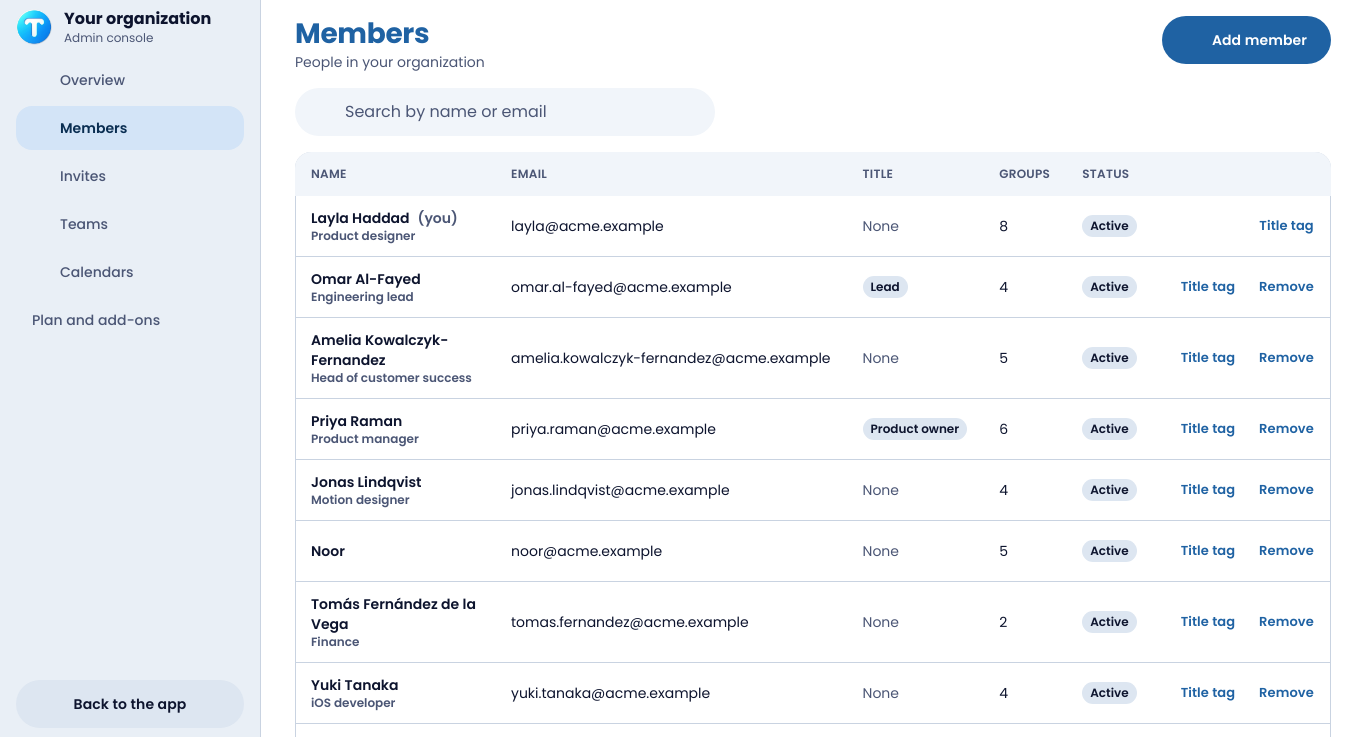
it: admin console › lists members in a table and adds one
This screenshot has width=1366, height=737.
Click the button "Add member": (1246, 40) [1162, 16, 1331, 64]
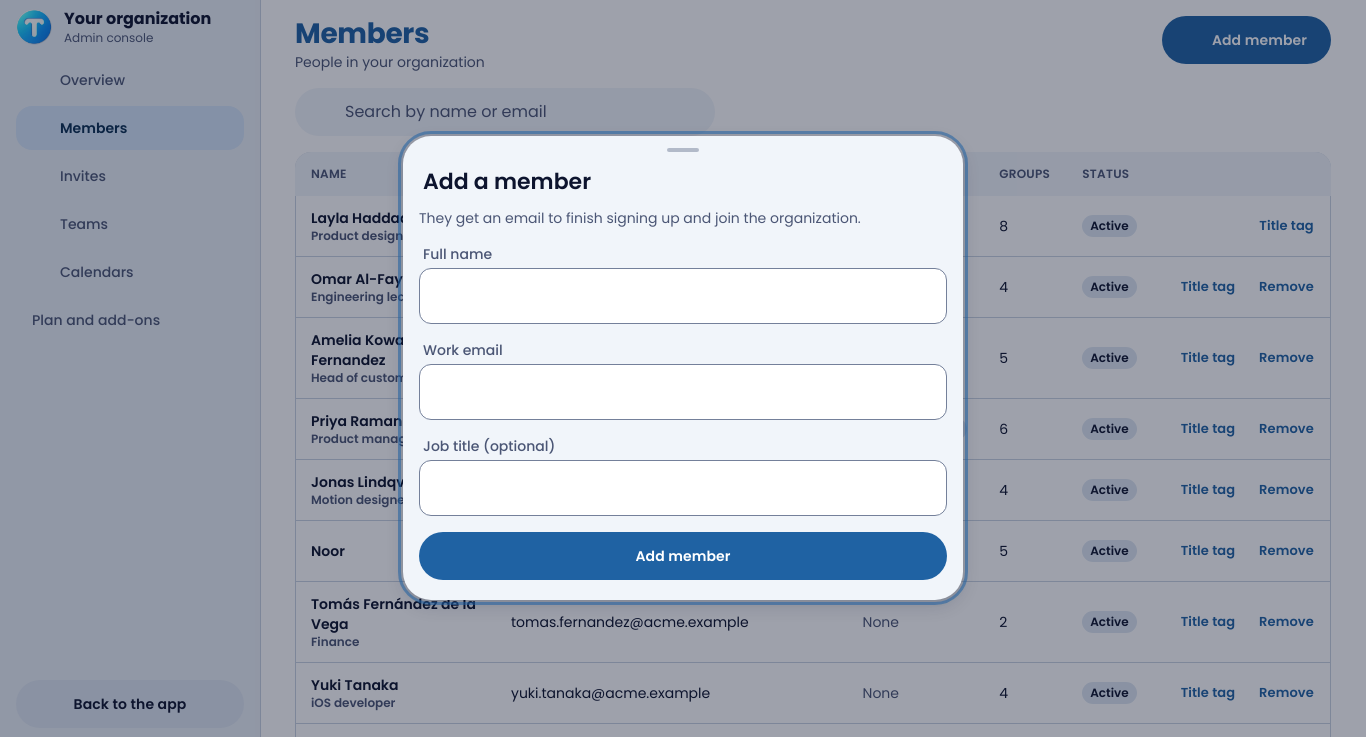
In the field labelled "Full name": (683, 296) [419, 268, 947, 324], type "Rania Saleh"
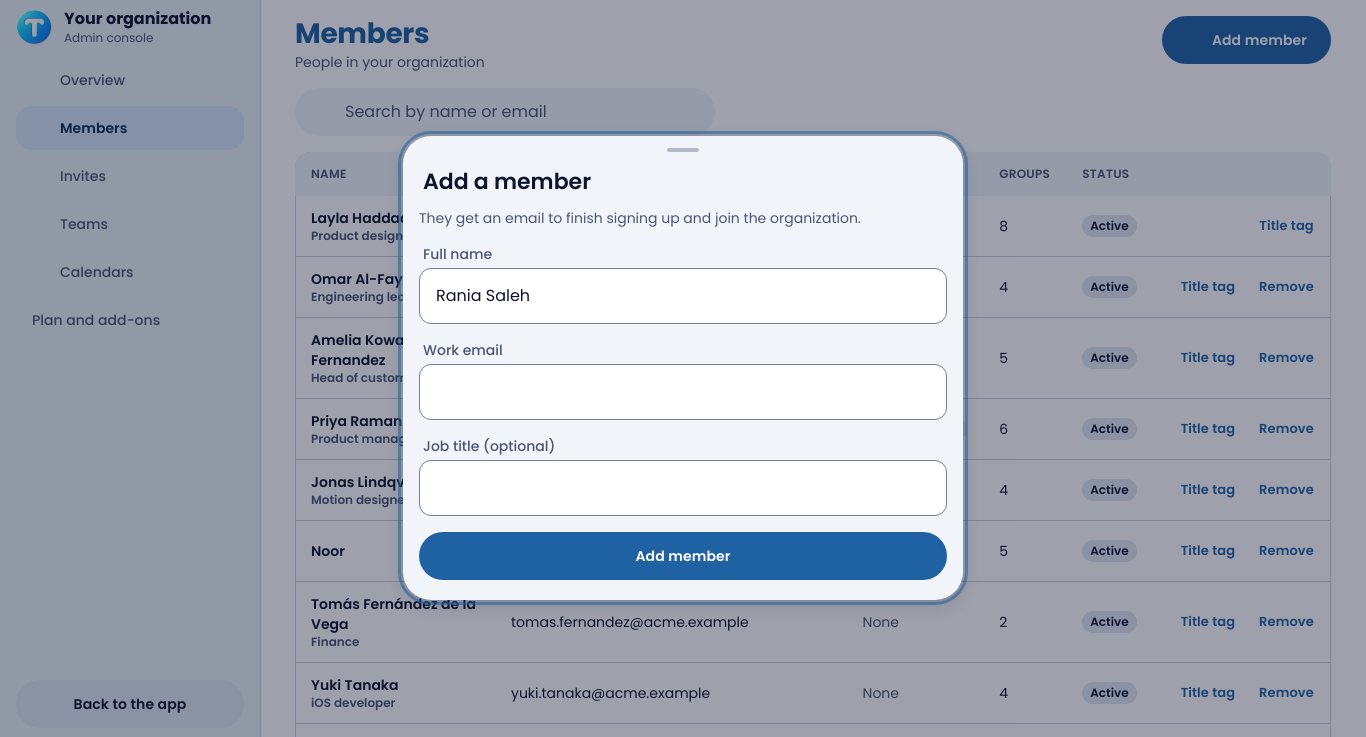
In the field labelled "Work email": (683, 392) [419, 364, 947, 420], type "rania@acme.example"
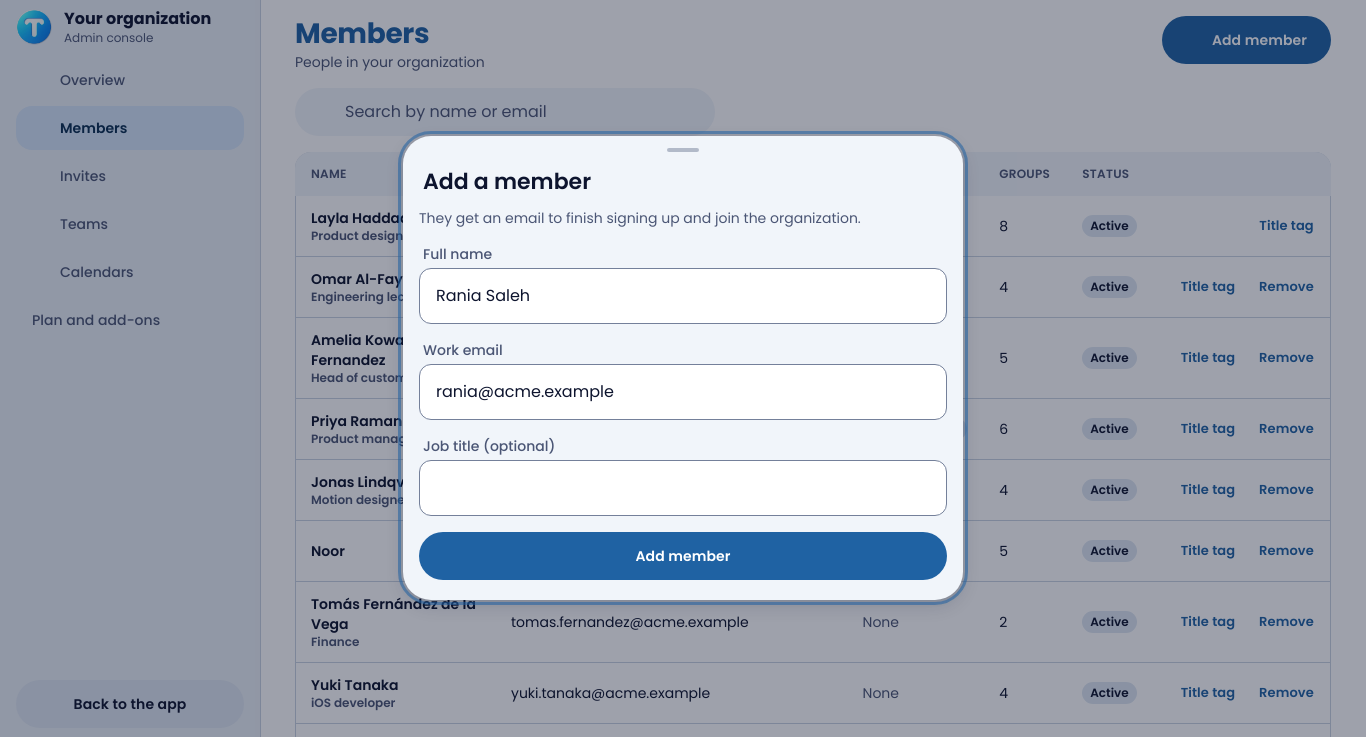
Click the button "Add member": (683, 556) [419, 532, 947, 580]
(page scrolled)
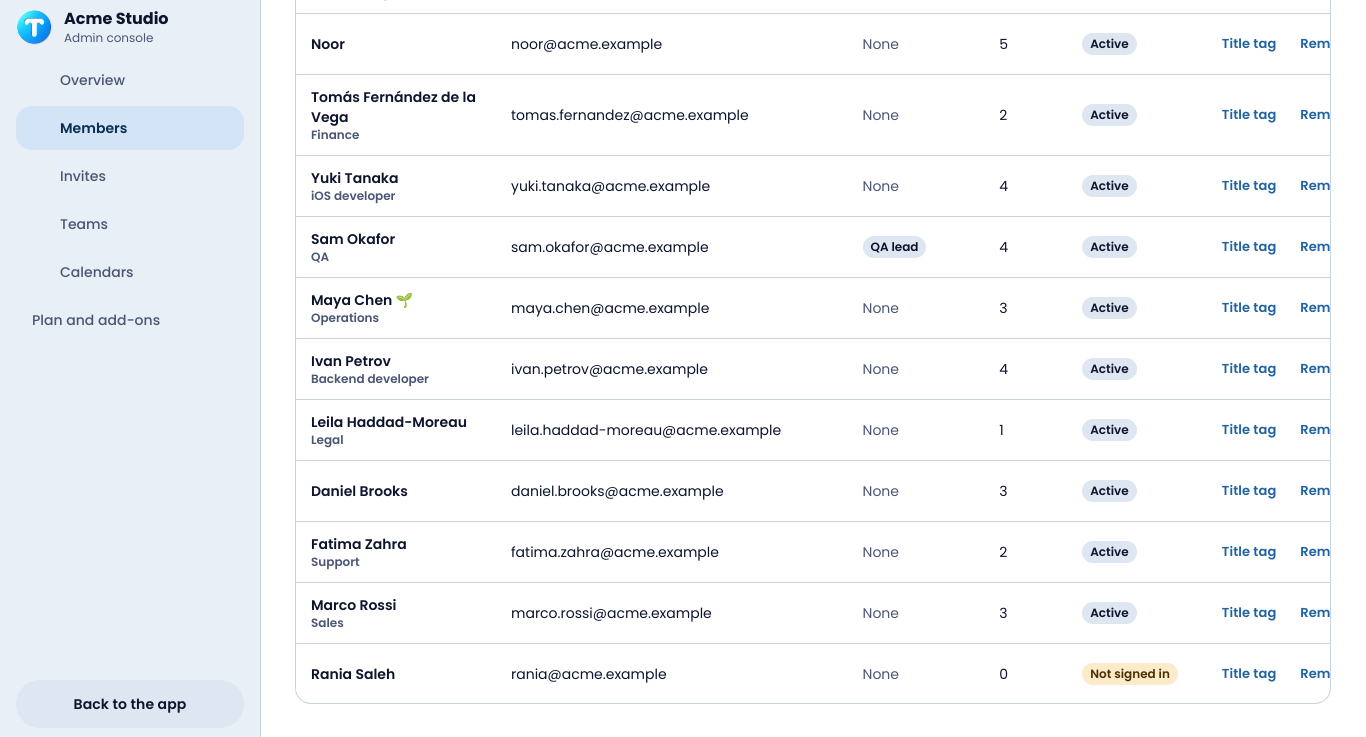
Now the text "Not signed in" is shown, box [1082, 663, 1178, 685]
